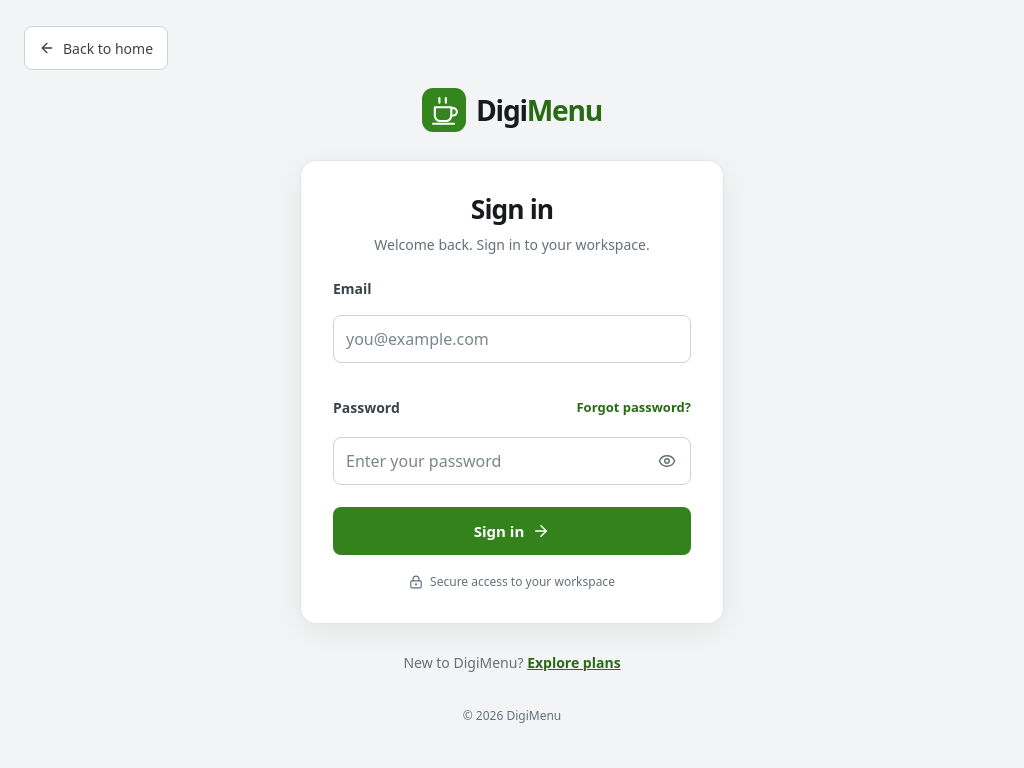
Scenario: routing smoke test › routes cafe admin credentials at the legacy login to their own dashboard
This screenshot has width=1024, height=768.
Expected: the heading "Sign in" is shown, 471,191 -> 553,227
Type "admin@abyssinia-roast.com" into the field labelled "Email" at (512, 339), box 333,315 -> 691,363
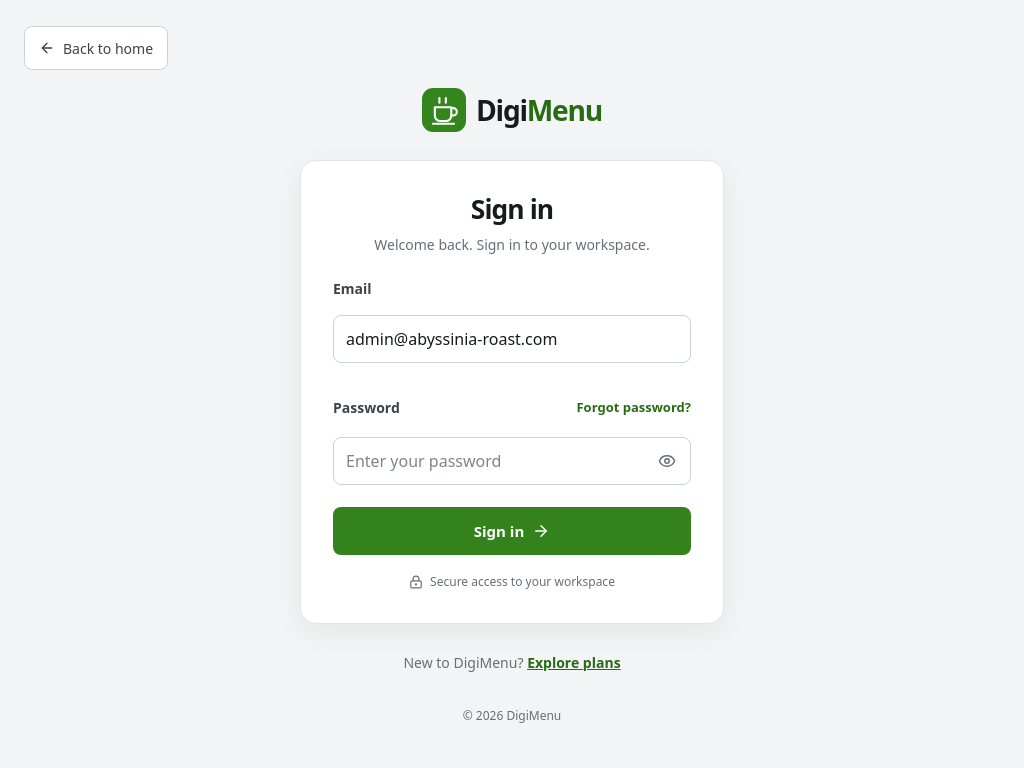
Type "admin-pass" into the password field labelled "Password" at (512, 461), box 333,437 -> 691,485
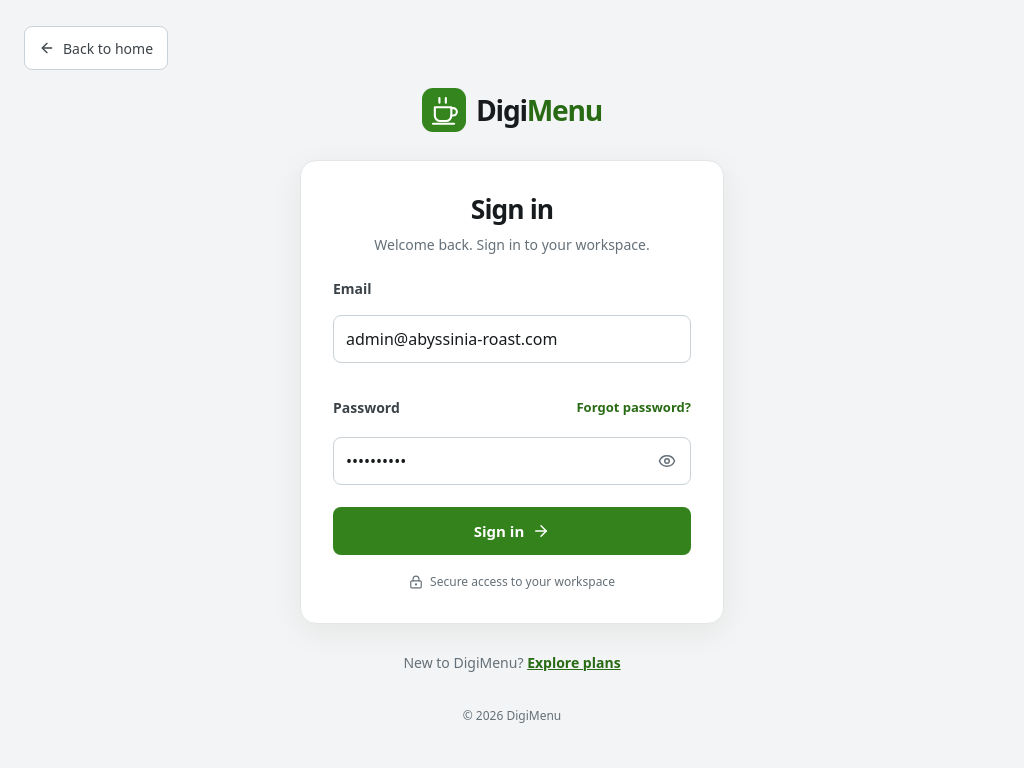
Click the button "Sign in" at (512, 531), box 333,507 -> 691,555
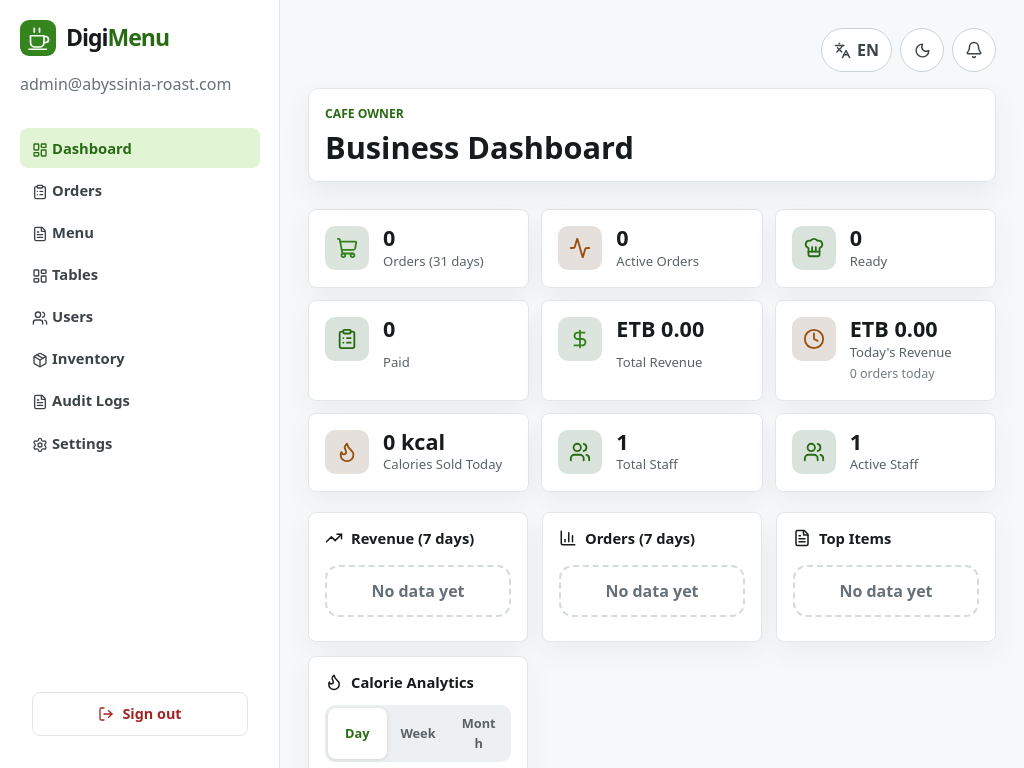
Now the heading "Business Dashboard" is shown, box 325,129 -> 634,165
